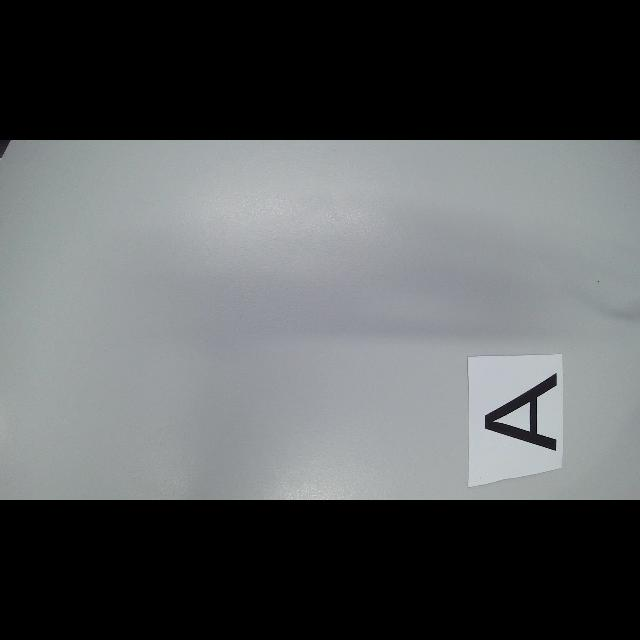FAKE: (484, 371, 558, 451)
